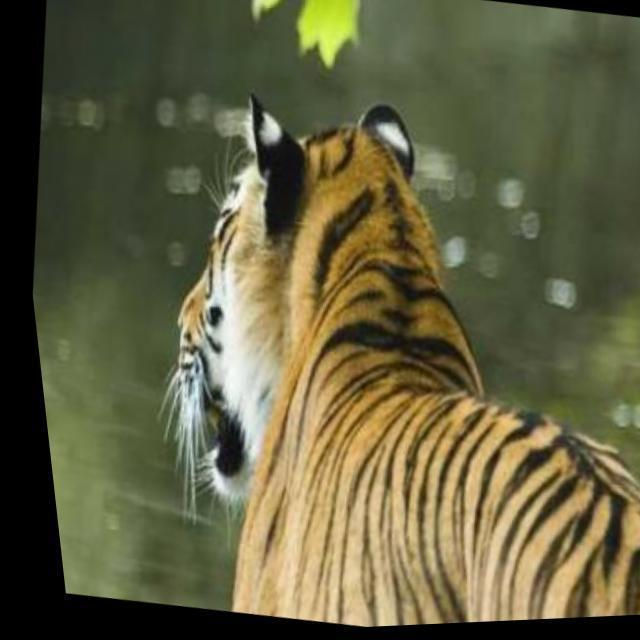tiger: (158, 90, 639, 625)
